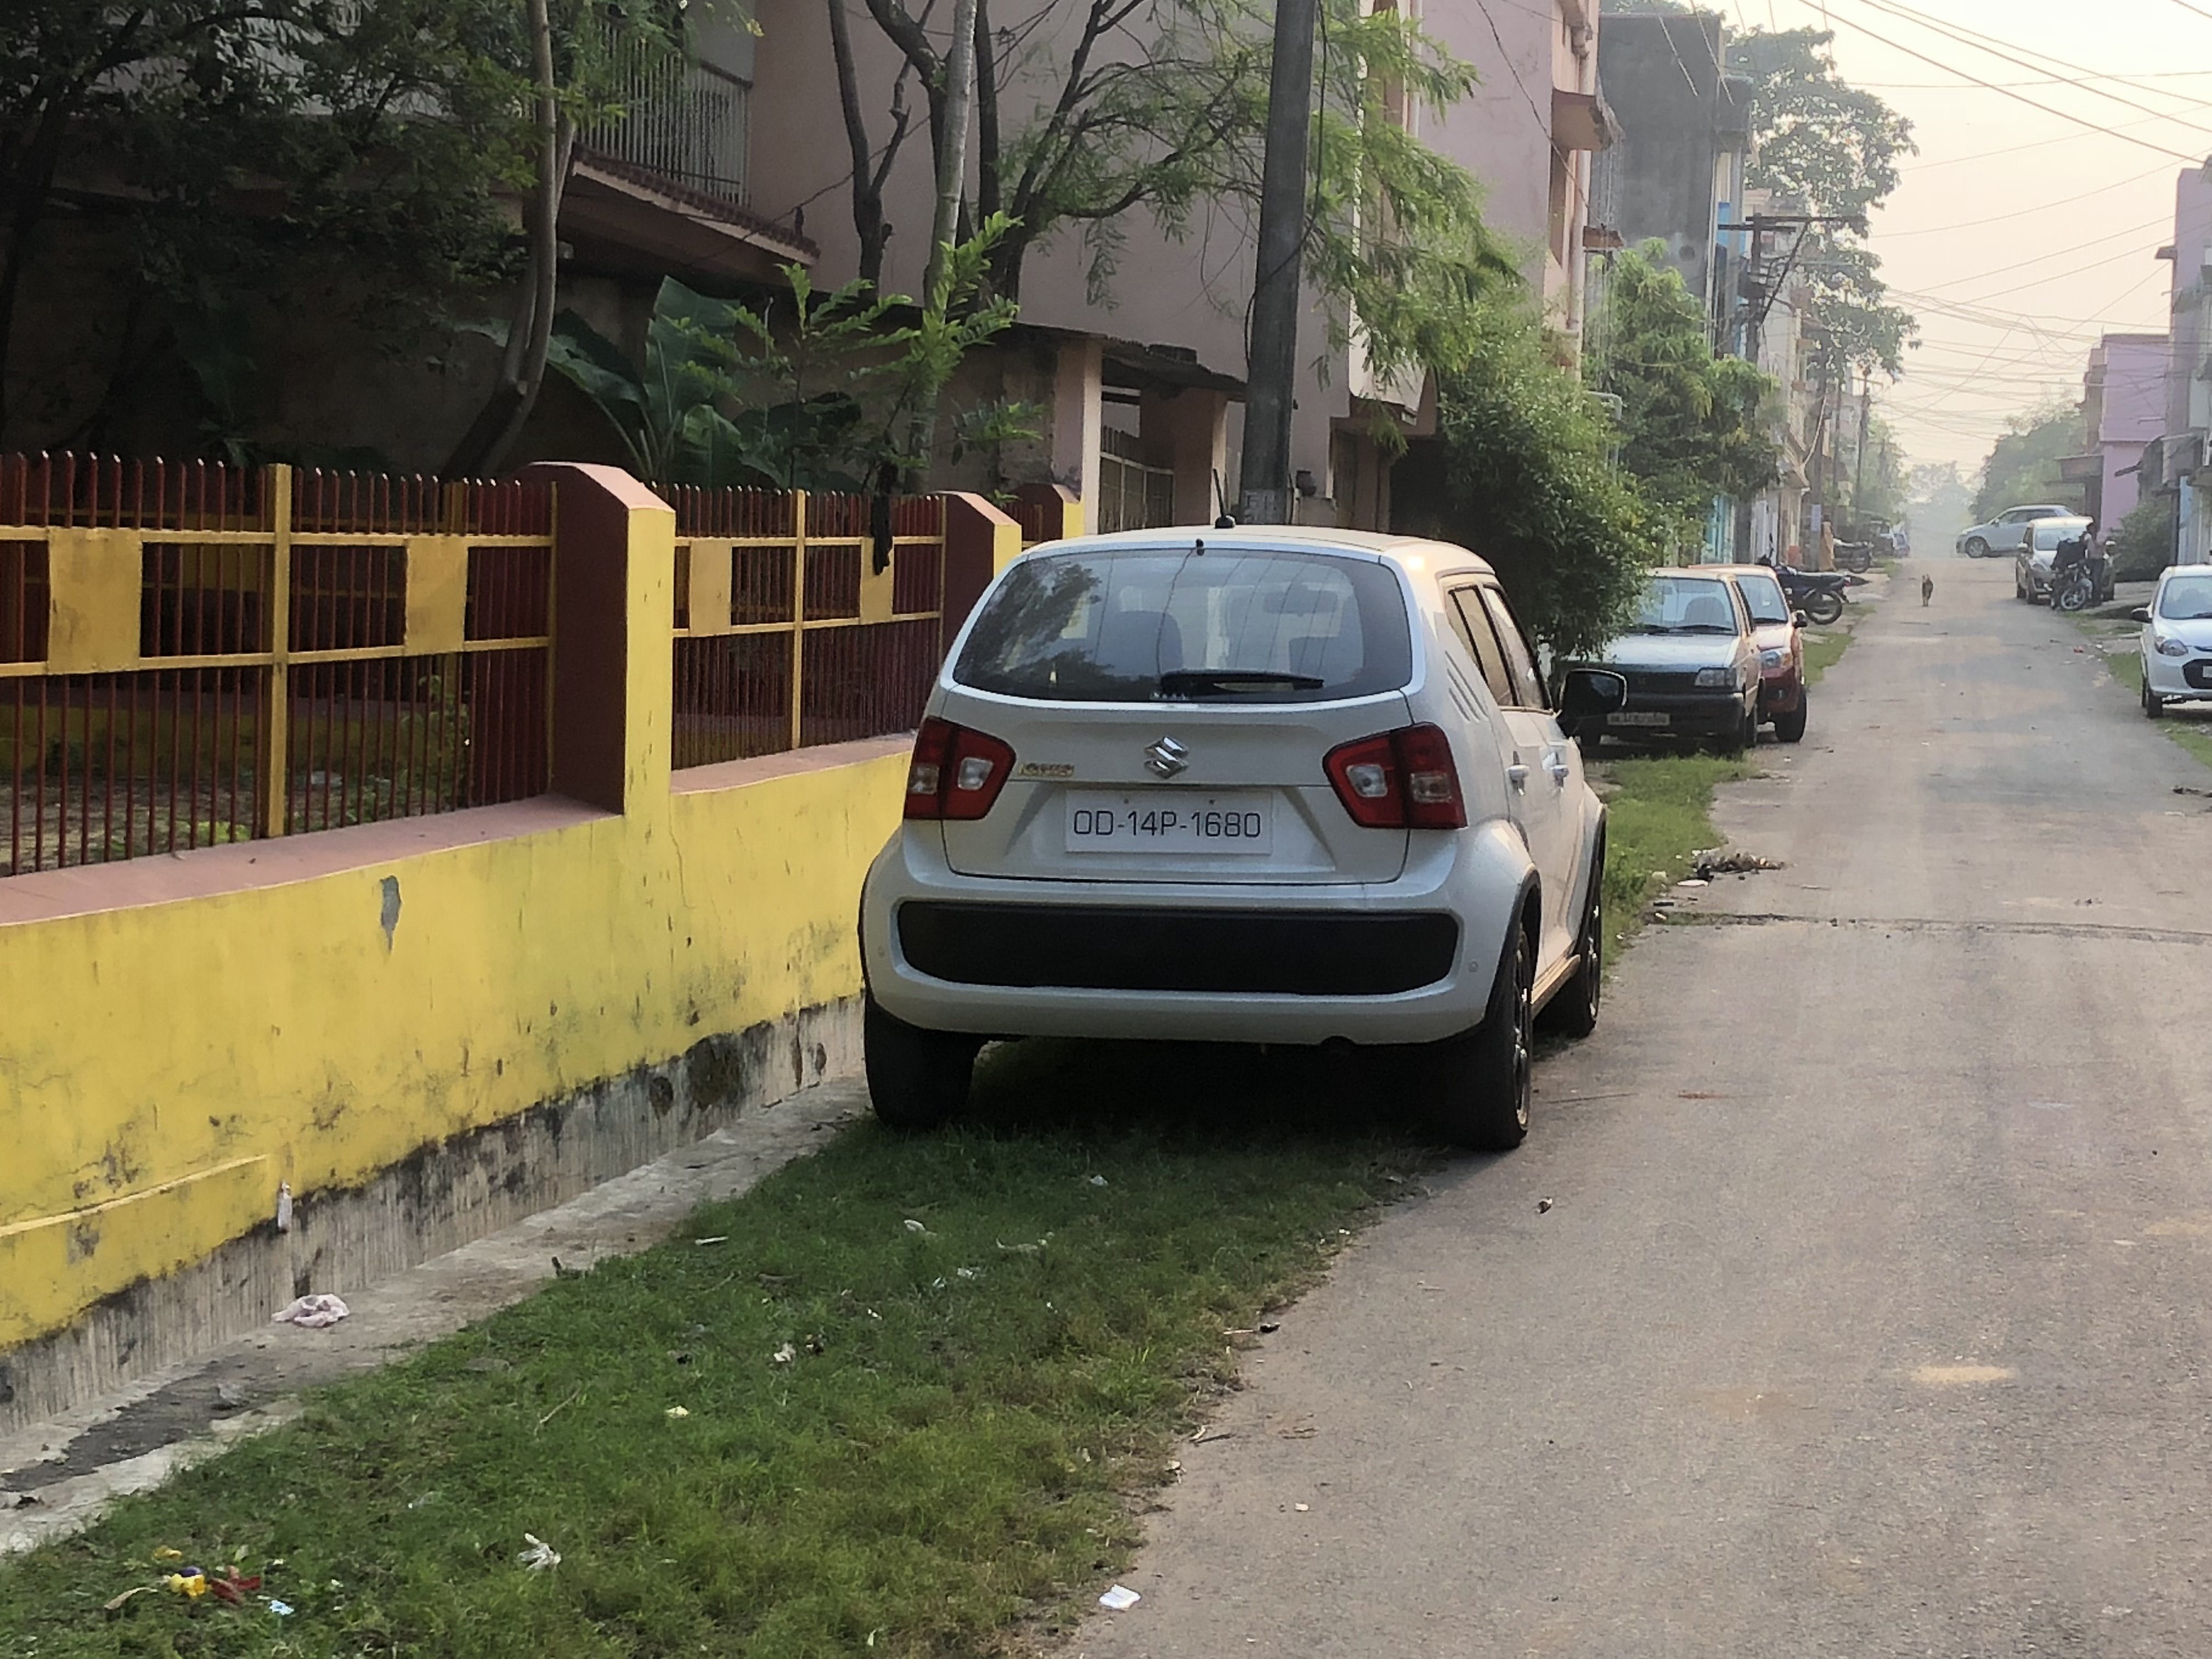licenseplate: (1054, 775, 1282, 863), (1609, 701, 1673, 732)
